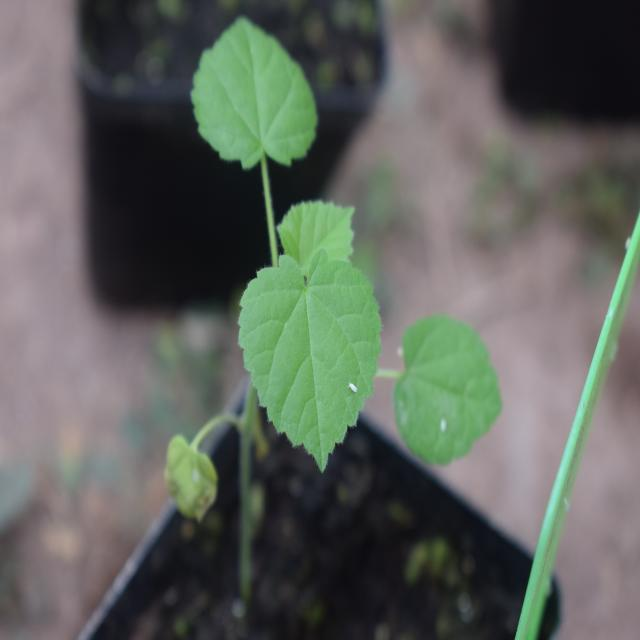abutilon theophrasti: (178, 18, 471, 475)
